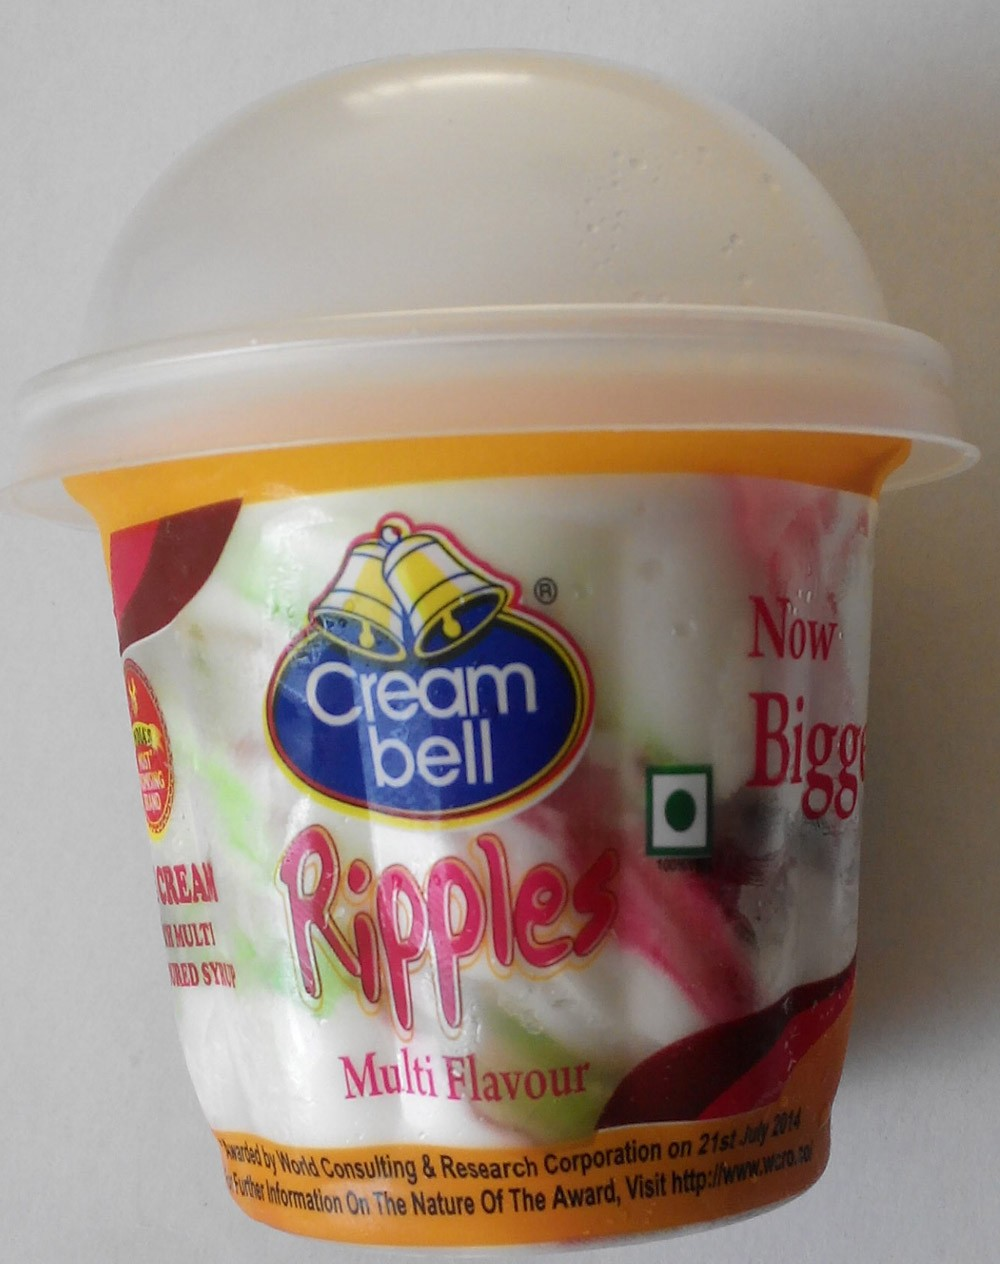VEG: (644, 766, 713, 853)
